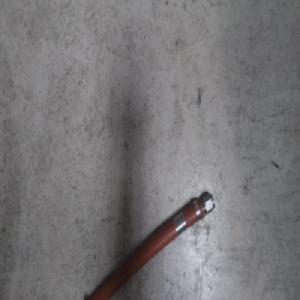Hose: (69, 188, 216, 300)
